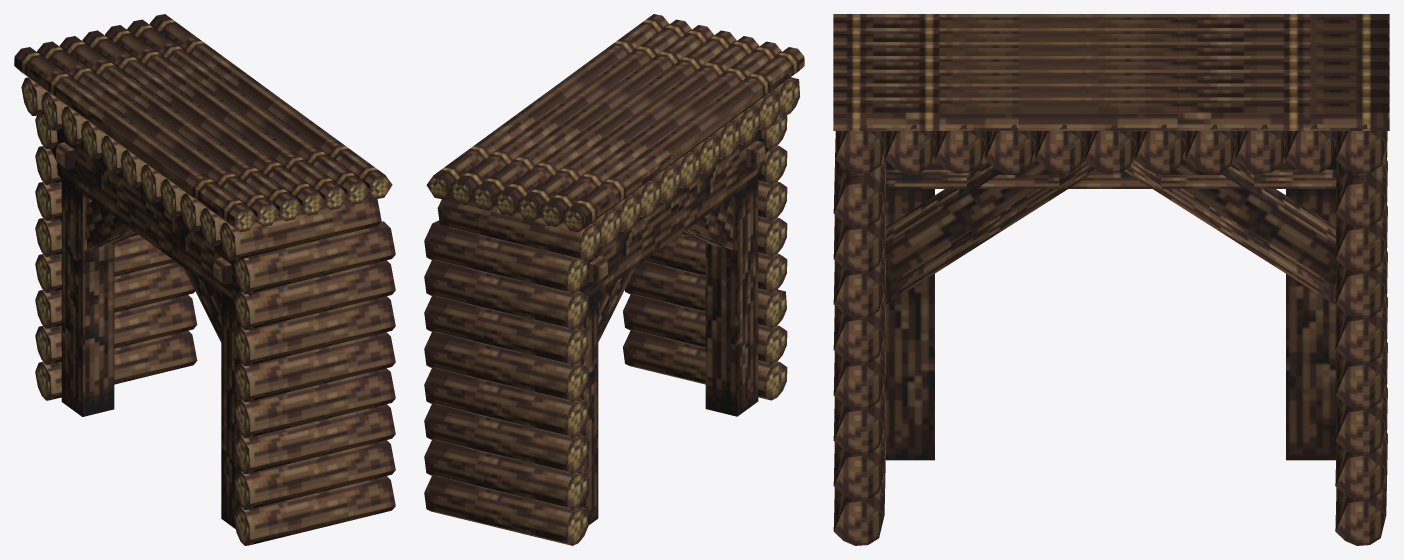
Rendered from ObjMD_Entrance_A.FBX.
The picture shows the model from 3 angles, left to right: view 1: azimuth 30°, elevation 25°; view 2: azimuth 150°, elevation 25°; view 3: azimuth 270°, elevation 25°; orthographic projection. The views are drawn at different scales.
Parts seen in each view (by area): view 1: ObjMD_Entrance_A; view 2: ObjMD_Entrance_A; view 3: ObjMD_Entrance_A.
Part boxes in pixels (x1=…): ObjMD_Entrance_A: x1=14, y1=14, x2=395, y2=545; ObjMD_Entrance_A: x1=424, y1=14, x2=804, y2=545; ObjMD_Entrance_A: x1=833, y1=14, x2=1389, y2=545.
Bounding box in the file's own units: 223 × 454 × 525.
